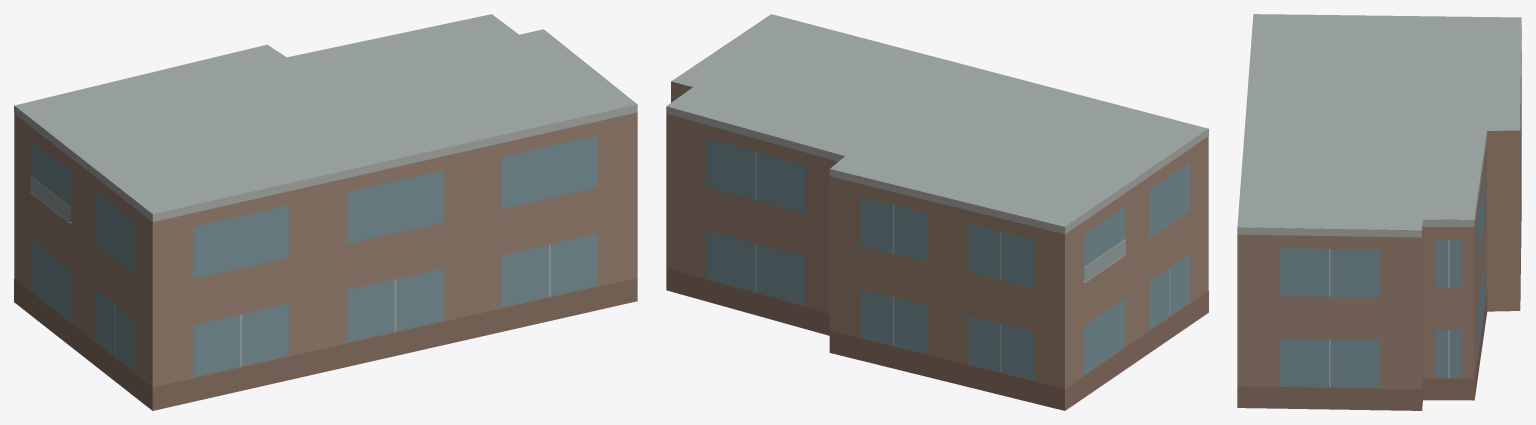
File: survey-upis-32939083.glb
The picture shows the model from 3 angles, left to right: view 1: azimuth 30°, elevation 25°; view 2: azimuth 150°, elevation 25°; view 3: azimuth 270°, elevation 25°; orthographic projection. The views are drawn at different scales.
Visible parts, largest first — view 1: survey-upis-32939083.tmp; view 2: survey-upis-32939083.tmp; view 3: survey-upis-32939083.tmp.
Part boxes in pixels (x1,y1,x2,y2): survey-upis-32939083.tmp: (14,14,637,410); survey-upis-32939083.tmp: (666,14,1208,410); survey-upis-32939083.tmp: (1237,14,1521,410).
Size of the model in its own units: 15.69 by 6.1 by 8.72.
